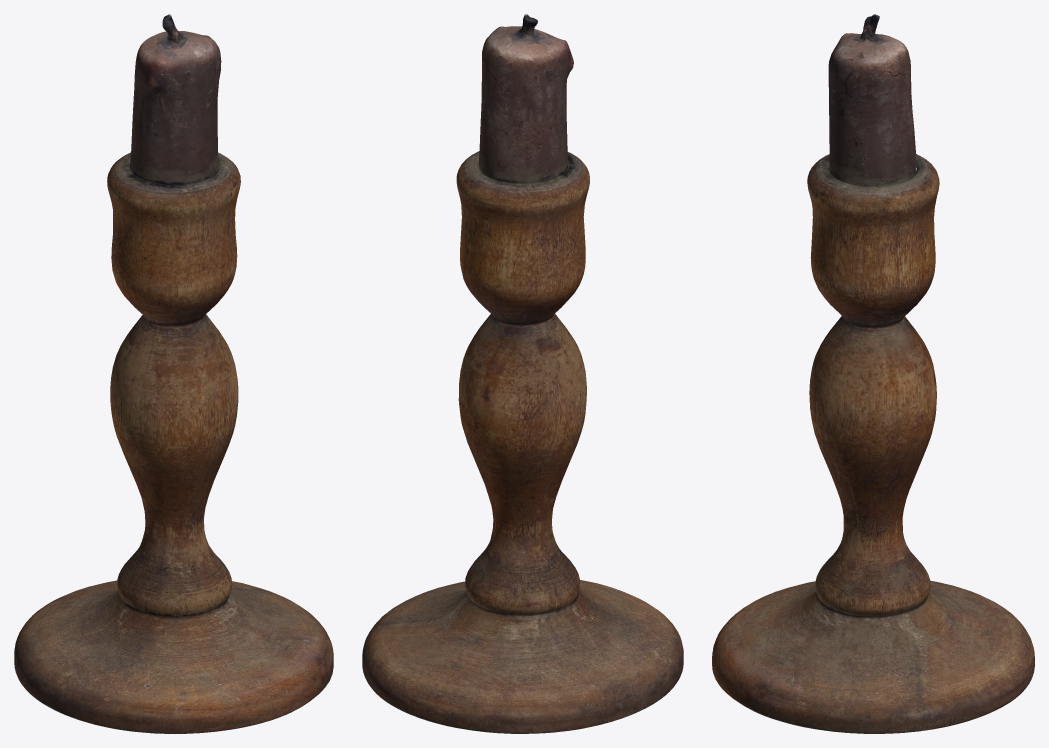
Rendered from wooden_candlestick.glb.
3 renders of one model, left to right at view 1: azimuth 30°, elevation 25°; view 2: azimuth 150°, elevation 25°; view 3: azimuth 270°, elevation 25°, orthographic.
Visible parts, largest first — view 1: wooden_candlestick_mesh; view 2: wooden_candlestick_mesh; view 3: wooden_candlestick_mesh.
Part boxes in pixels (x1,y1,x2,y2): wooden_candlestick_mesh: (14, 14, 333, 733); wooden_candlestick_mesh: (362, 14, 683, 733); wooden_candlestick_mesh: (712, 14, 1034, 733).
Size of the model in its own units: 0.0972 by 0.2196 by 0.0986.
1 material, 1 textured.
